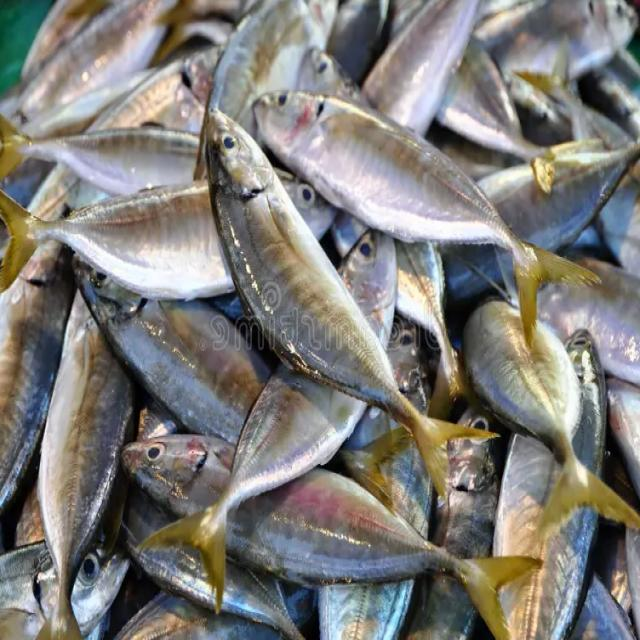Mackerel: (207, 100, 495, 506)
